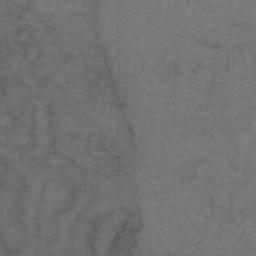Water spot: (0, 0, 143, 256)
